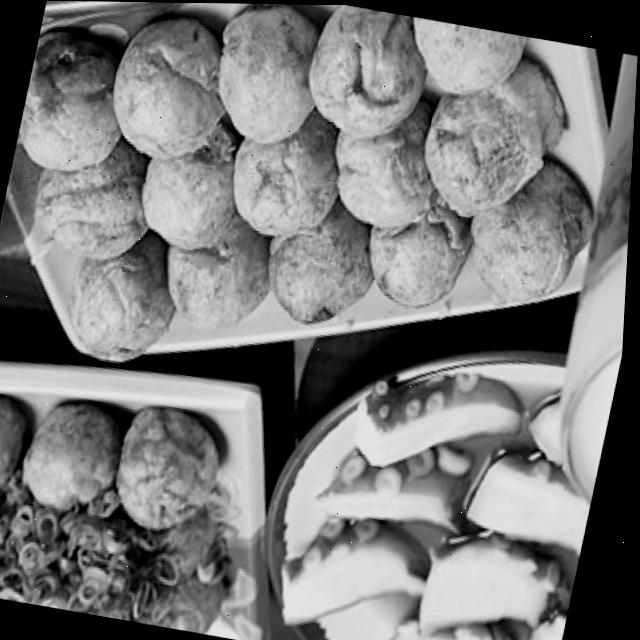炸货点心: (0, 0, 624, 448)
